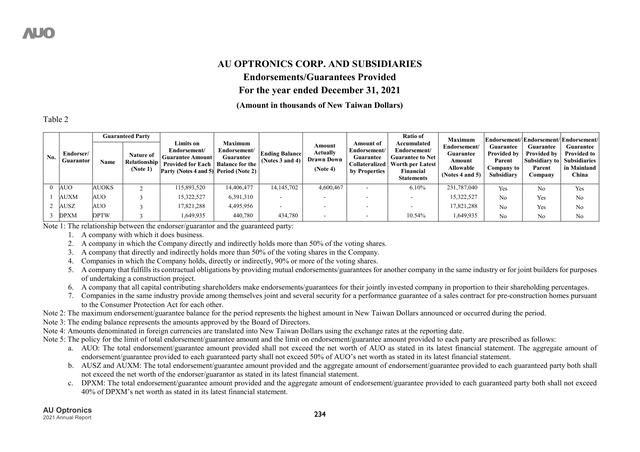box: (41, 130, 601, 223)
